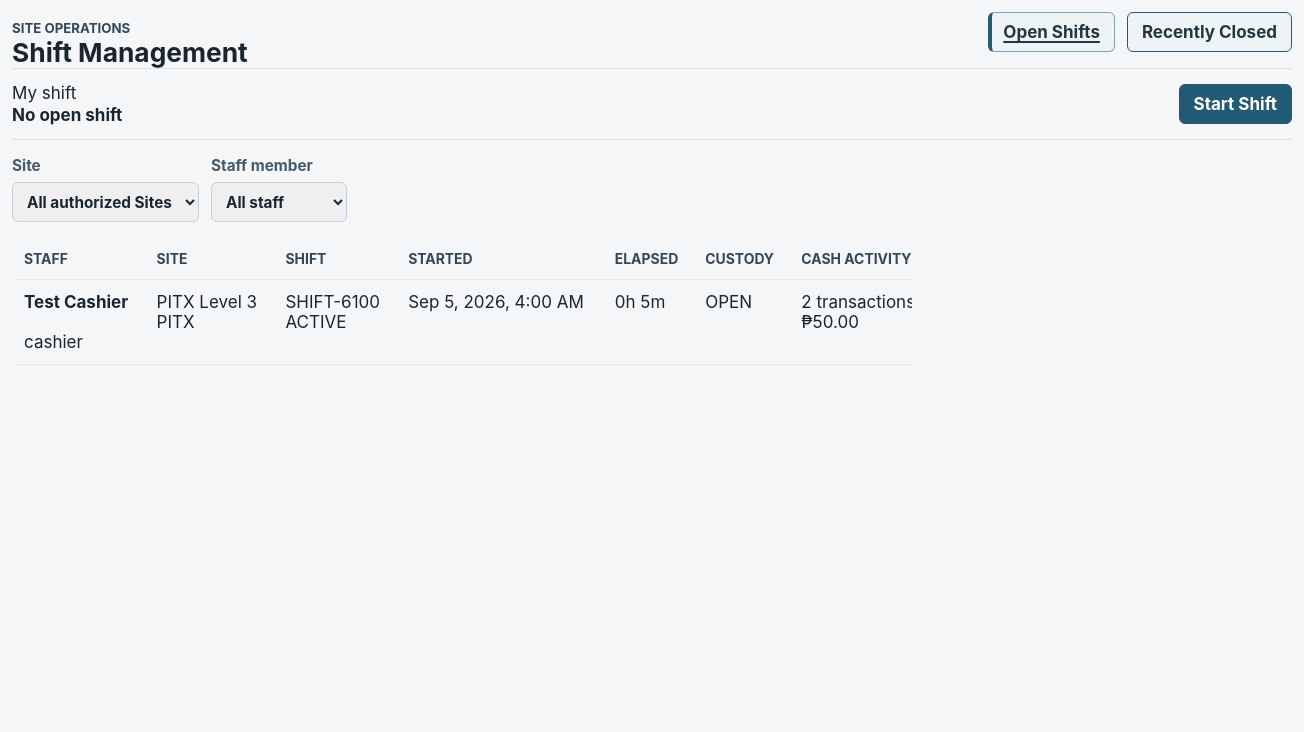
ShiftManagement › lists Site-scoped open shifts and displays custody and authoritative cash totals
Click the text "Test Cashier".
click(78, 302)  # box [24,292,133,312]
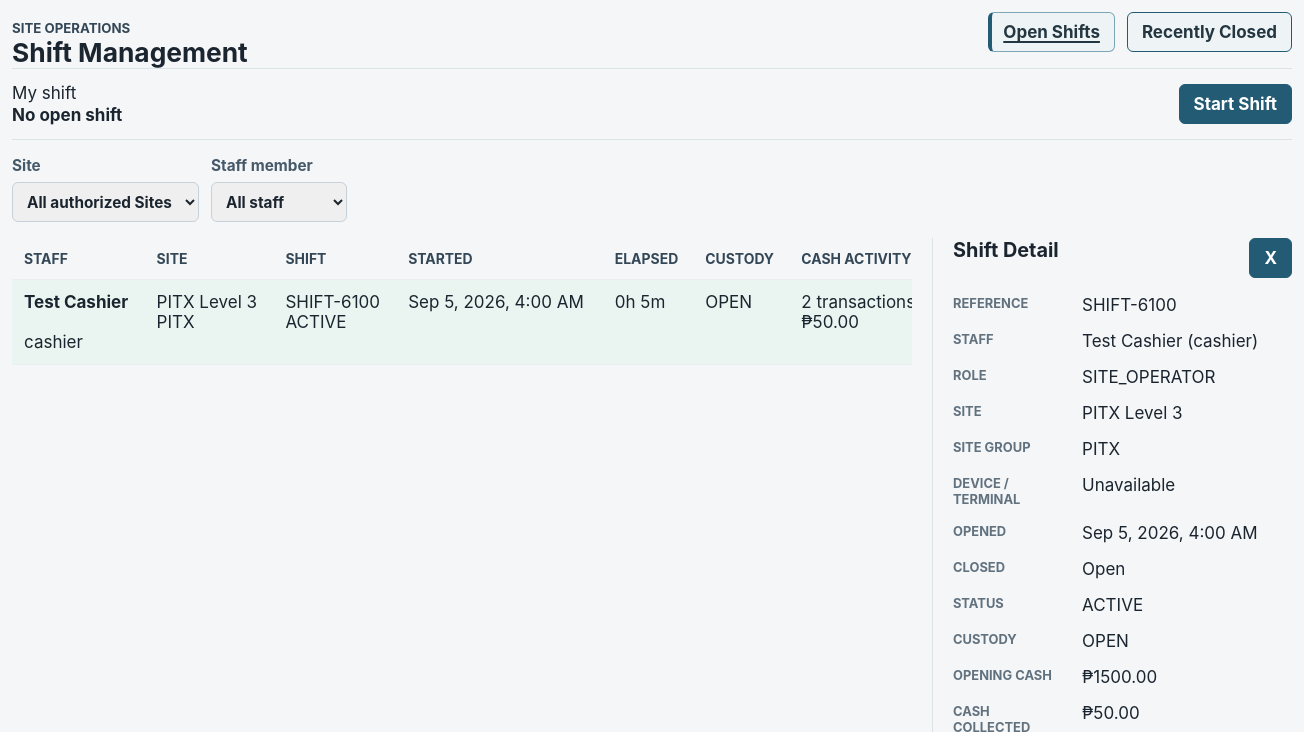
Expected: the text "OPEN" is shown, [693,280,789,364]
Now the heading "Shift Detail" is shown, box [953,238,1059,262]
